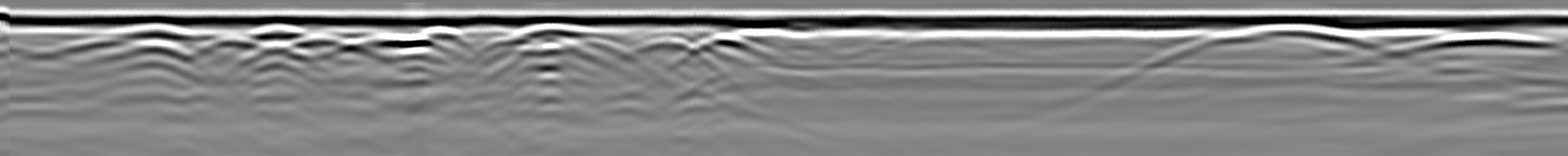pipe: (103, 18, 212, 41), (516, 15, 589, 36), (241, 18, 313, 38), (409, 19, 470, 37)
steel: (1414, 30, 1567, 50), (654, 31, 755, 52), (315, 34, 400, 52)
